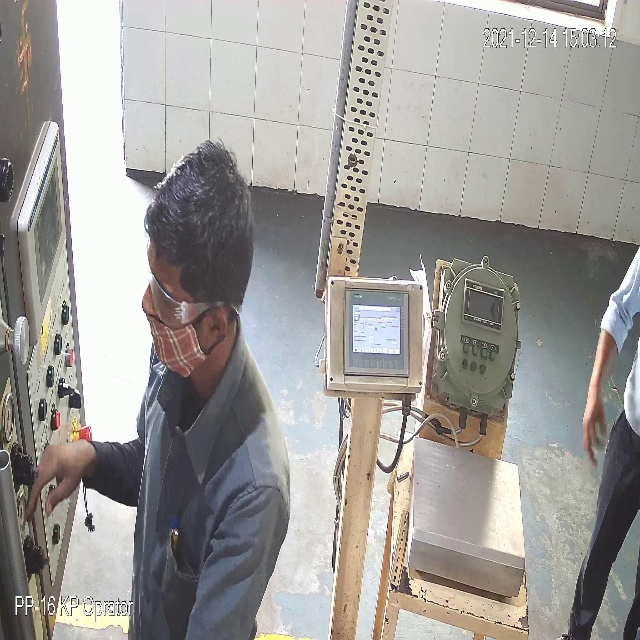Sin_guantes: (569, 340, 617, 490)
